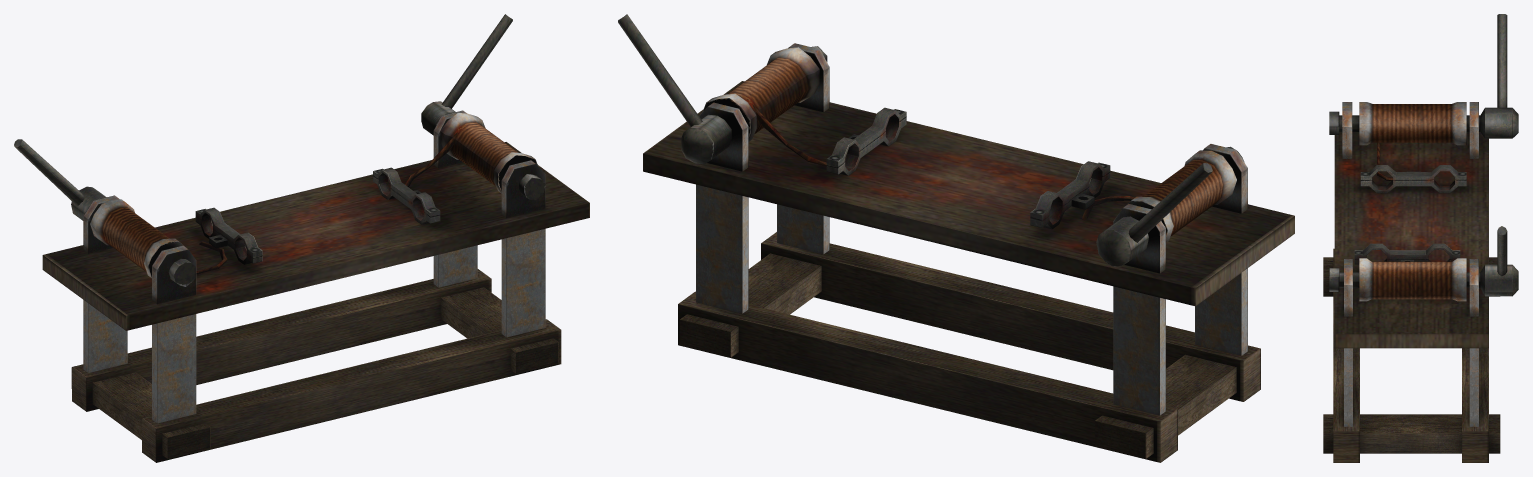
File: rack.obj
3 renders of one model, left to right at view 1: azimuth 30°, elevation 25°; view 2: azimuth 150°, elevation 25°; view 3: azimuth 270°, elevation 25°, orthographic. The views are drawn at different scales.
Visible parts, largest first — view 1: Group; view 2: Group; view 3: Group.
Part boxes in pixels (bbox=[...]): Group: bbox=[14, 14, 589, 462]; Group: bbox=[618, 14, 1294, 462]; Group: bbox=[1323, 14, 1518, 462].
Bounding box in the file's own units: 121 × 63.62 × 44.55.
1 material, 1 textured.
